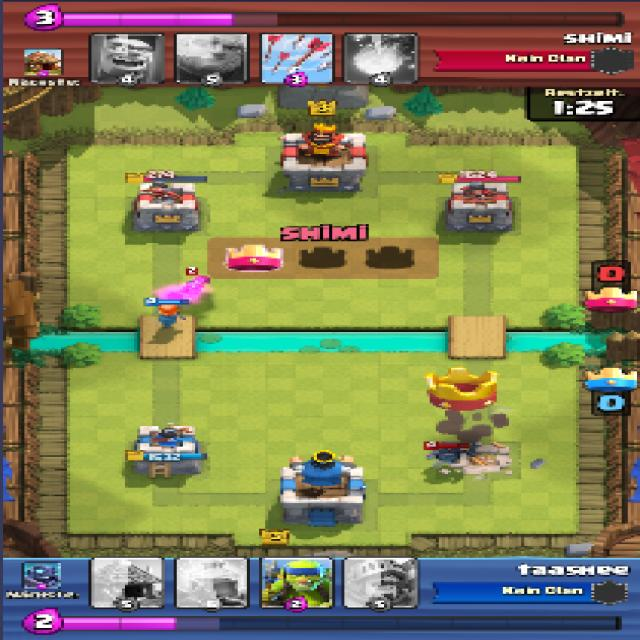Enemy-Archer: (181, 276, 211, 292)
Enemy-MiniPEKKA: (425, 444, 479, 464)
Player-Valkyrie: (146, 300, 187, 326)
